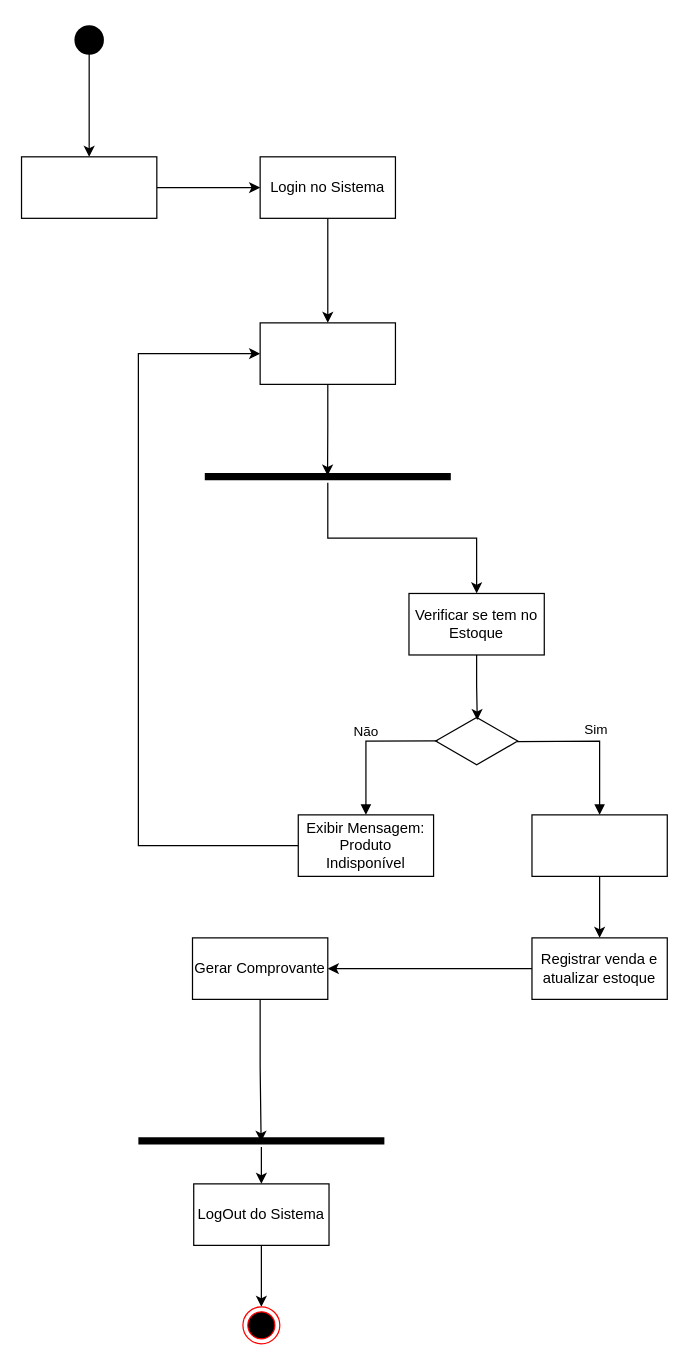
This 689x1365 diagram has some shape labels left out. Here are the shapes that lost their labels. From the top down, the centre of each, then its label:
pixel 88 187: Inicio
pixel 327 353: Selecionar produto(s) para venda
pixel 599 845: Confirmar itens da venda
